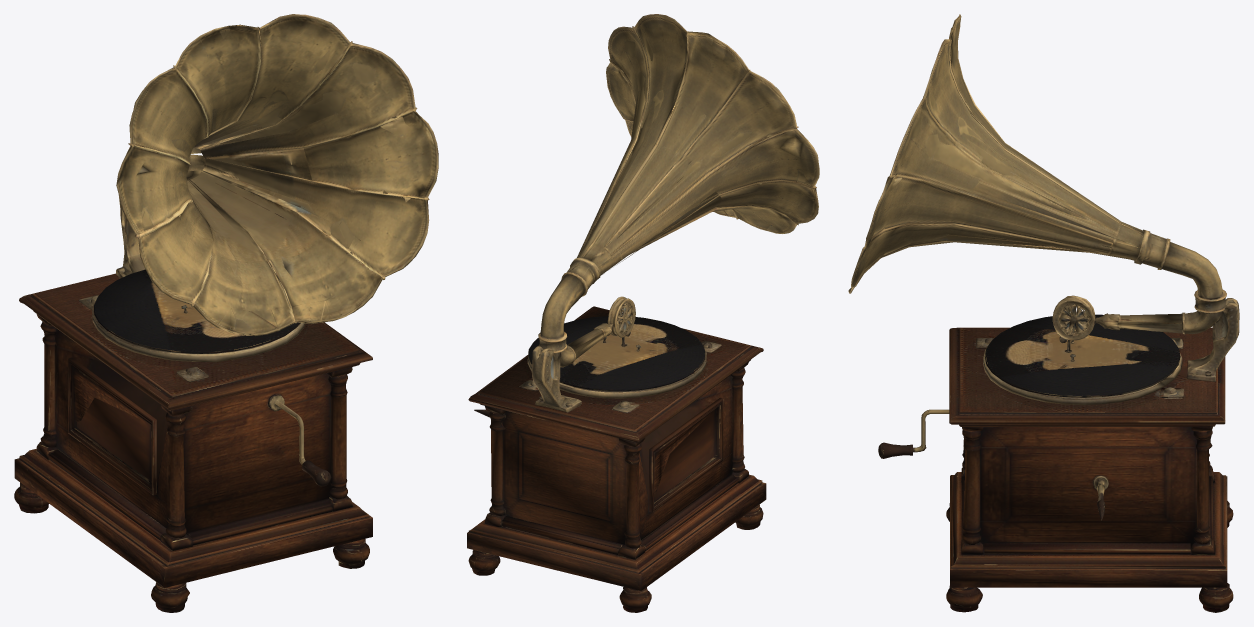
The model's file is gramophone.glb.
3 renders of one model, left to right at view 1: azimuth 30°, elevation 25°; view 2: azimuth 150°, elevation 25°; view 3: azimuth 270°, elevation 25°, orthographic. The views are drawn at different scales.
Bounding box in the file's own units: 0.5596 × 0.9507 × 0.6343.
1 material, 1 textured.
